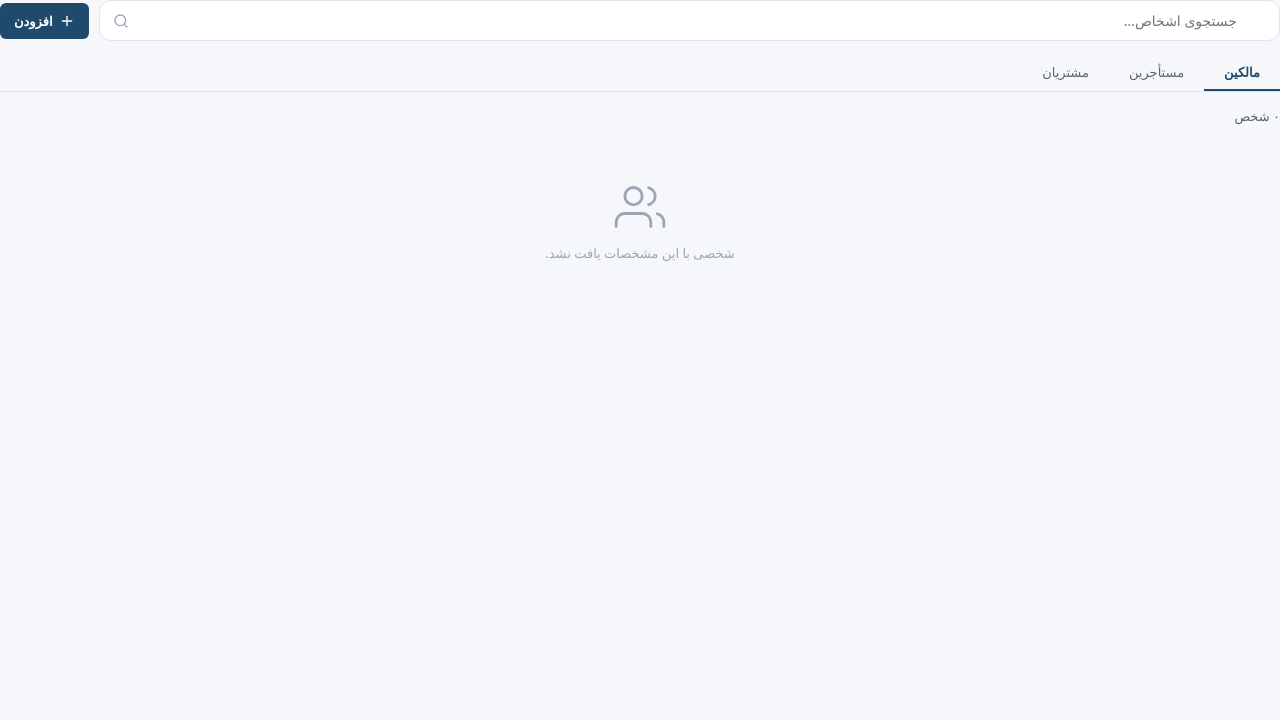
it: PersonsScreen › opens add modal when افزودن button clicked
The width and height of the screenshot is (1280, 720).
Check: the text "شخصی با این مشخصات یافت نشد." is shown, box 545,243 -> 735,265
Click the button "افزودن": coordinates (44, 20) 0,2 -> 89,38
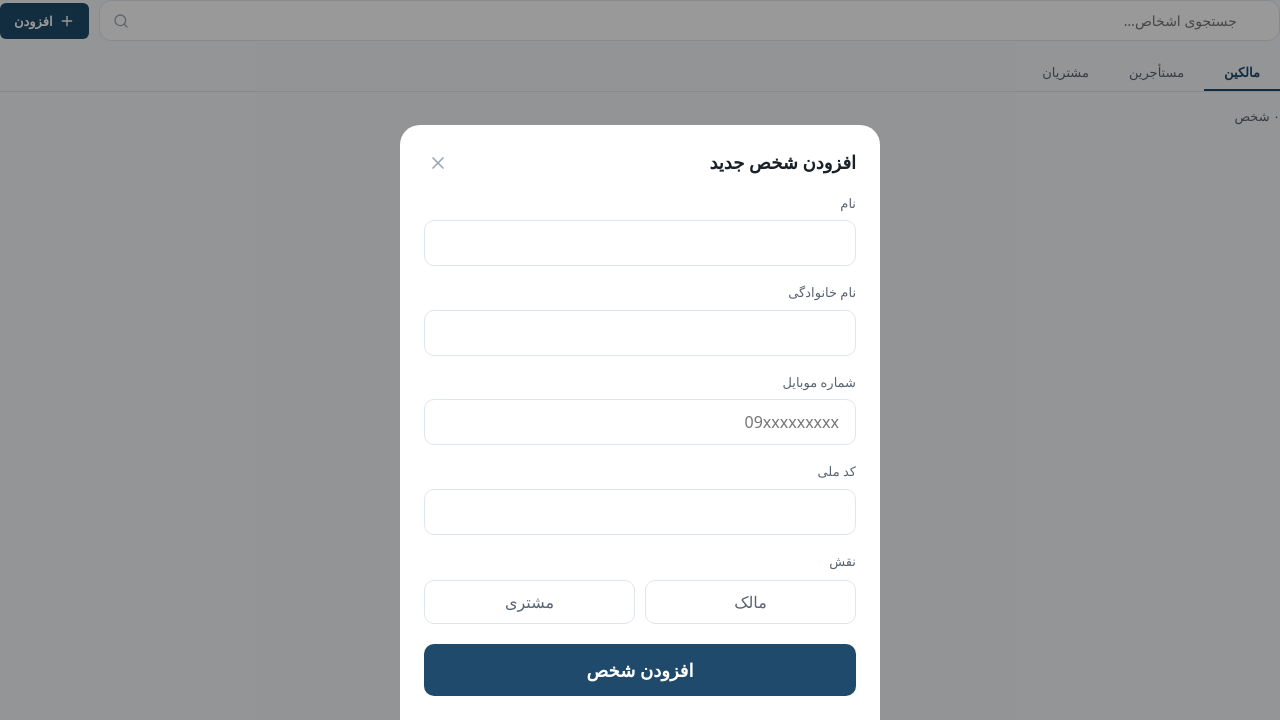
Check: the dialog "افزودن شخص جدید" is shown
